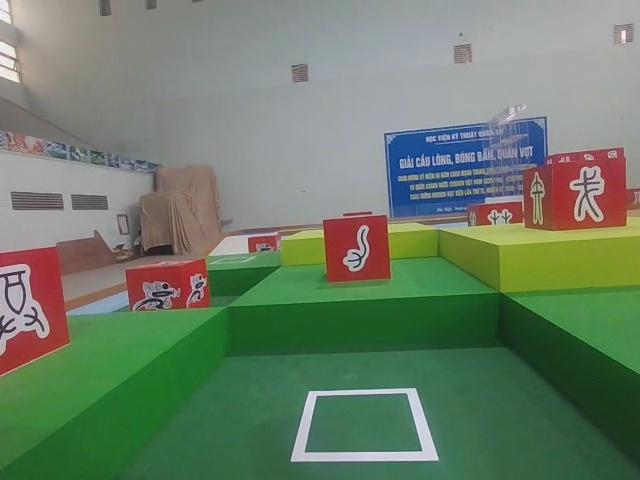R1: (121, 255, 212, 323)
R2 Fake: (521, 157, 629, 233)
R2 Real: (0, 241, 74, 379), (319, 212, 395, 287)
